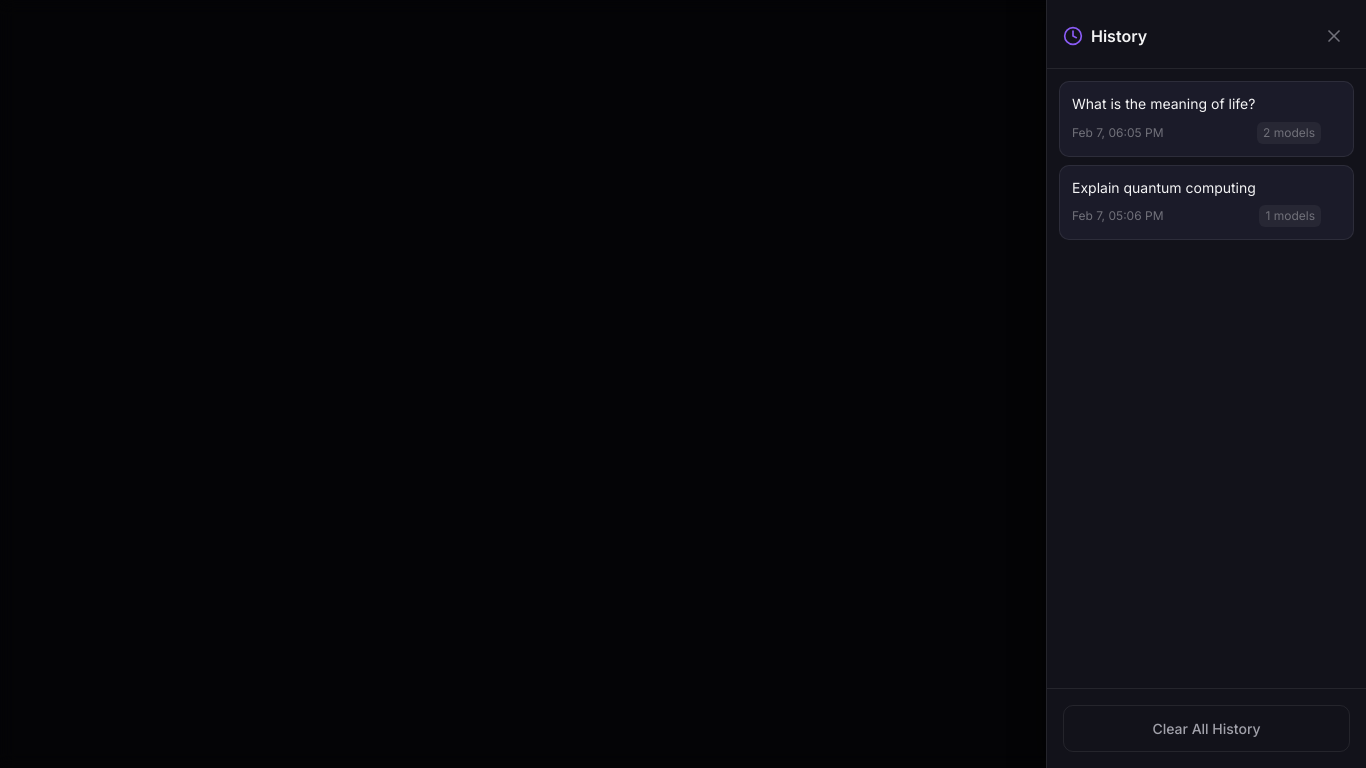
Test: HistorySidebar › shows clear confirmation modal when clear button clicked
Note: Click the clear button
Click the button "Clear All History" at x=1206, y=728, box [1063,705,1350,752]
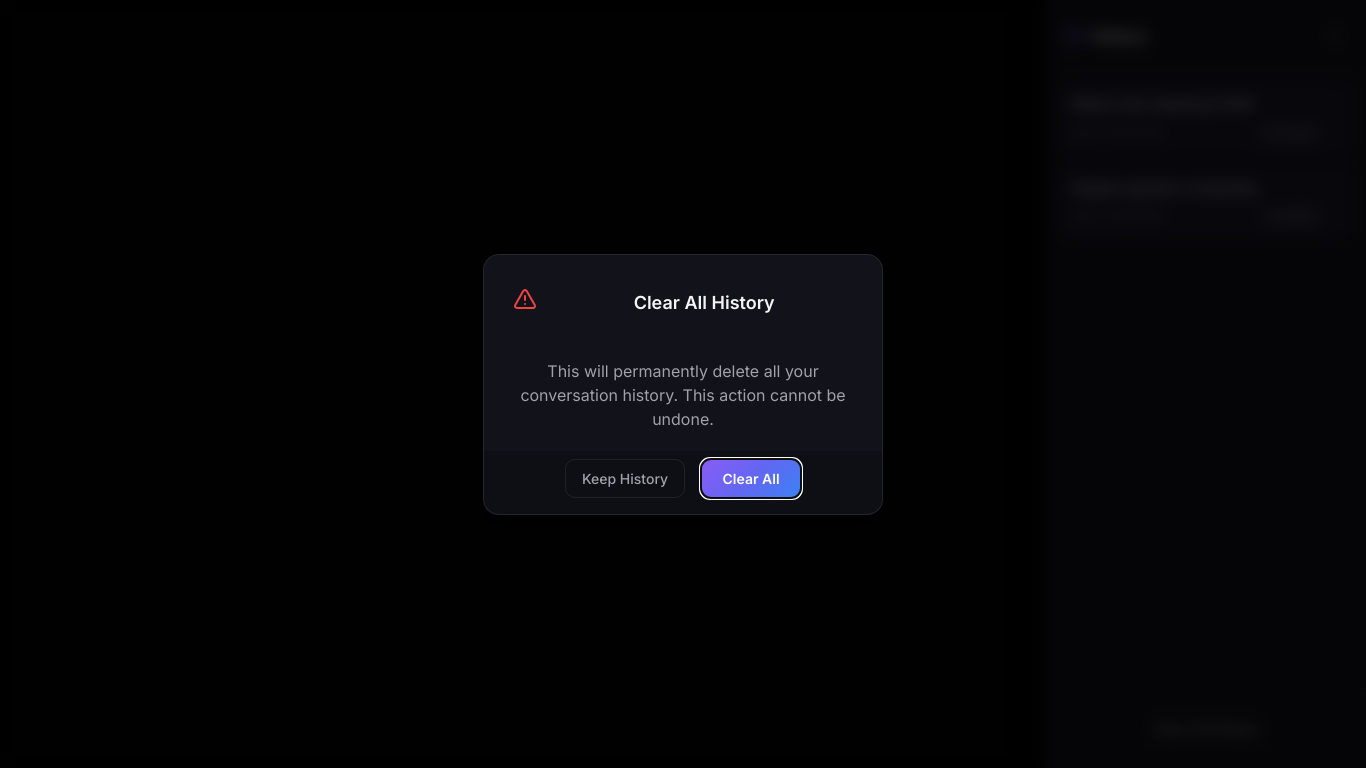
Expected: the text "This will permanently delete all" is shown, [520,360,846,428]
